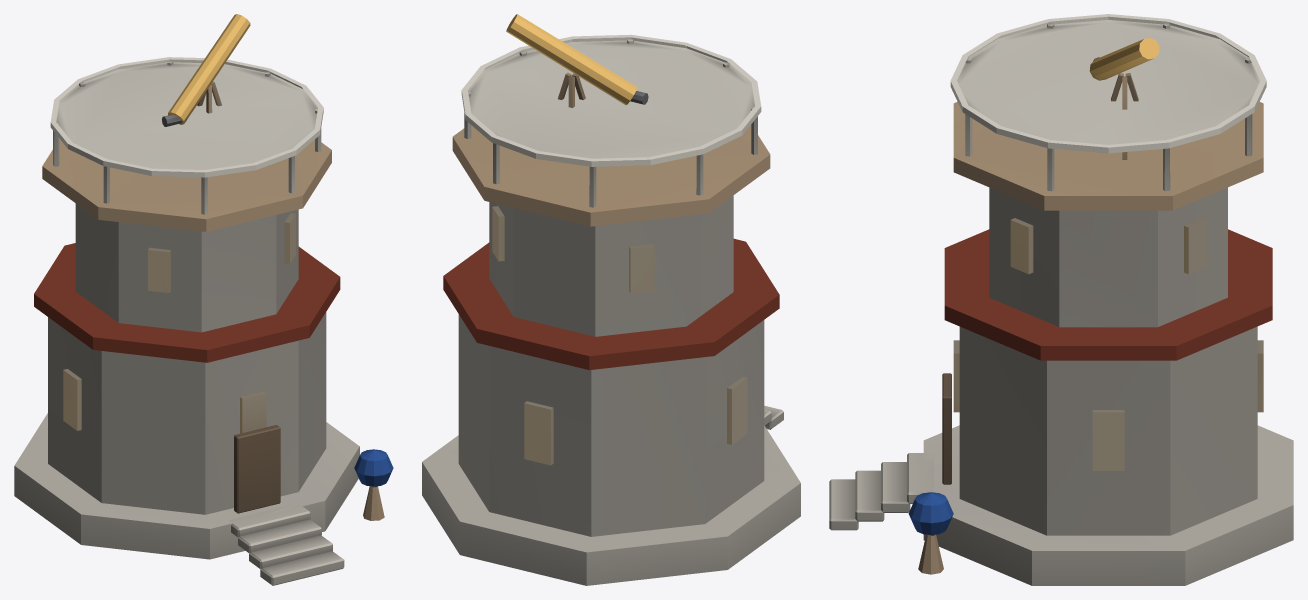
File: bld_observatory_e1.glb
3 renders of one model, left to right at view 1: azimuth 30°, elevation 25°; view 2: azimuth 150°, elevation 25°; view 3: azimuth 270°, elevation 25°, orthographic. The views are drawn at different scales.
Parts seen in each view (by area): view 1: observatory; view 2: observatory; view 3: observatory.
Boxes of the visible parts, bbox=[...] form: observatory: bbox=[14, 14, 393, 585]; observatory: bbox=[422, 14, 800, 585]; observatory: bbox=[829, 14, 1293, 585].
Size of the model in its own units: 1.15 by 1.75 by 1.44.
